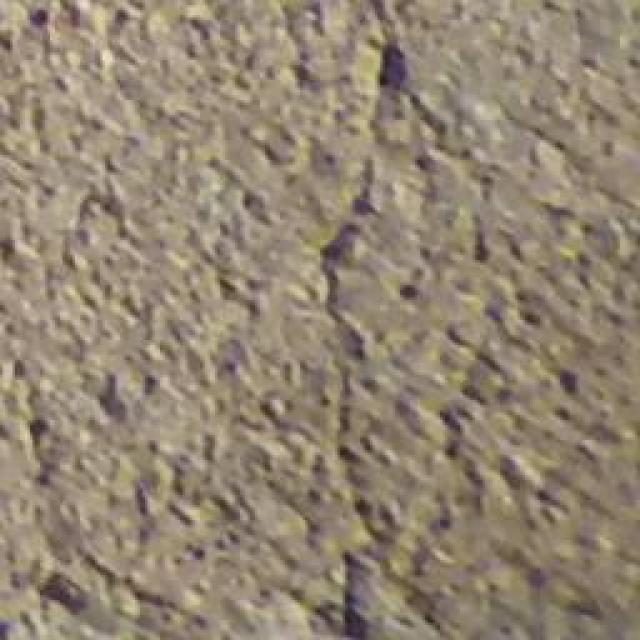concrete-crack: (313, 0, 412, 640)
